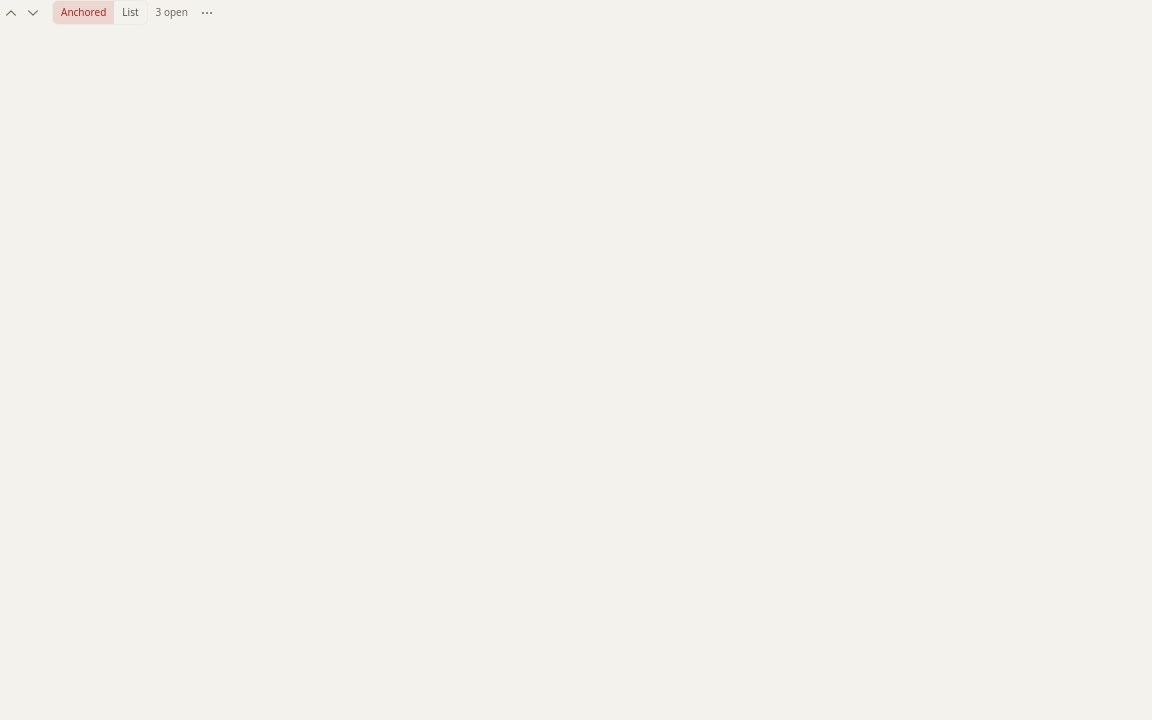
Test: RailDensityControl › drops an open menu and dialog when the comments disappear underneath them
The width and height of the screenshot is (1152, 720).
Step 1. Click the button named "Comment actions" → (207, 12), box [196,2,218,24]
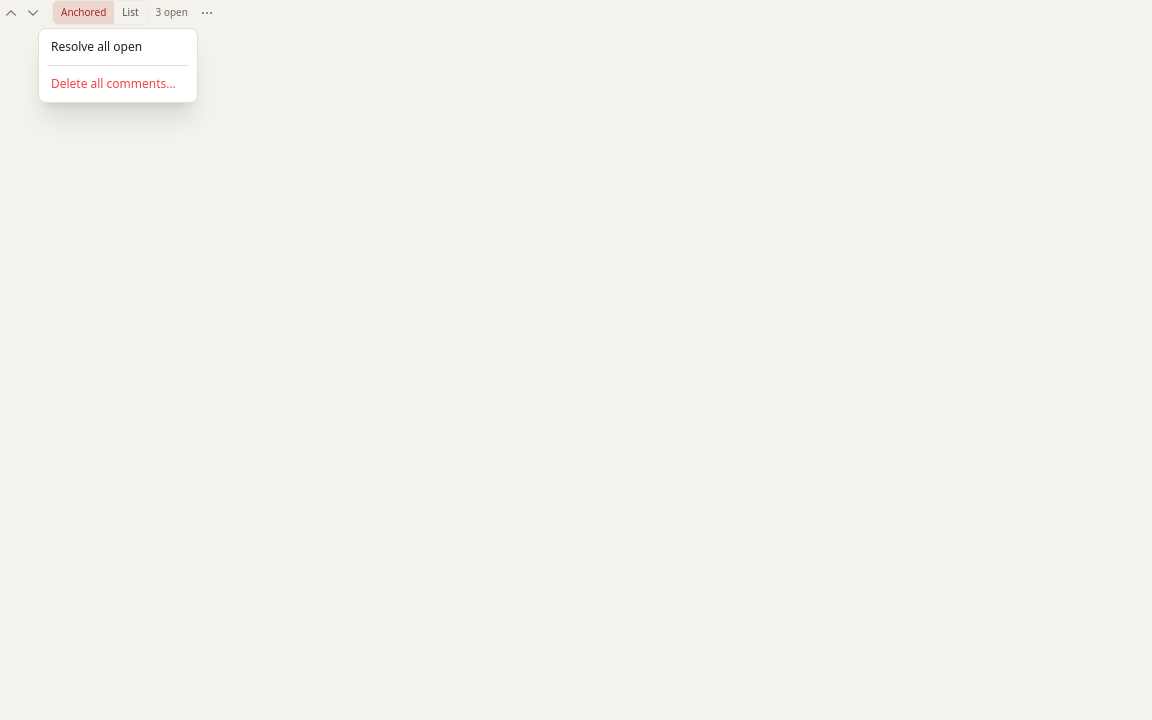
Step 2. Click the button "Delete all comments…" → (118, 84), box [39,70,197,98]
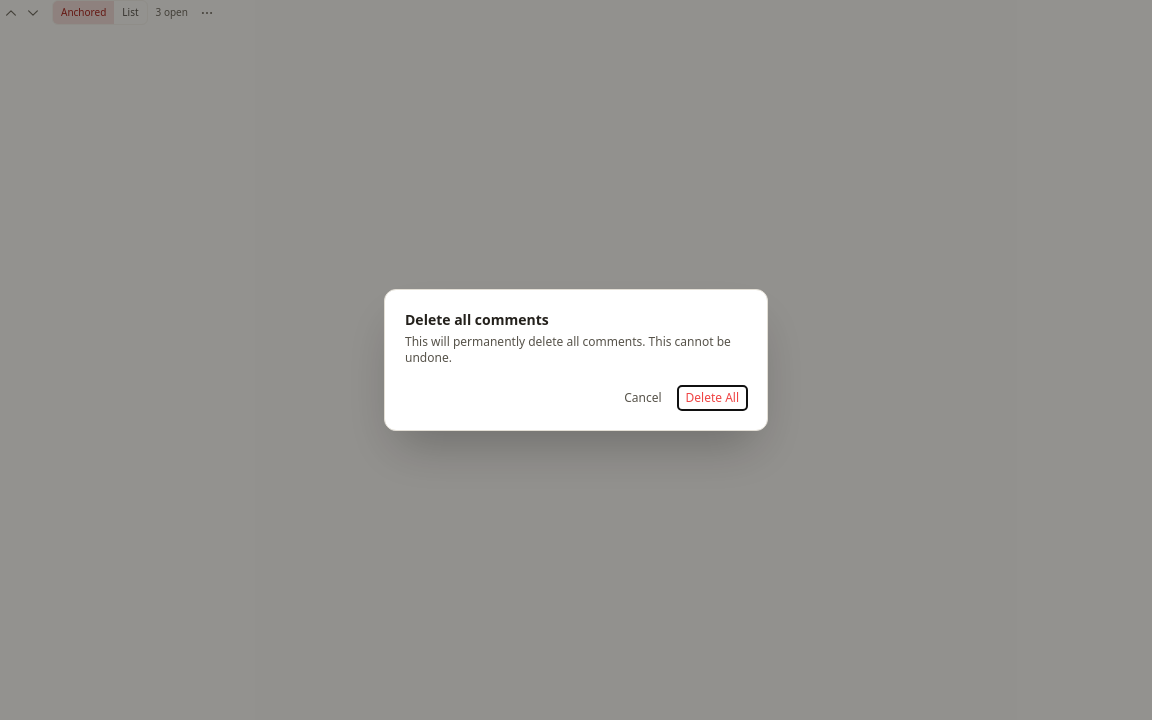
Result: the button "Delete All" is shown at [678,386,747,410]
